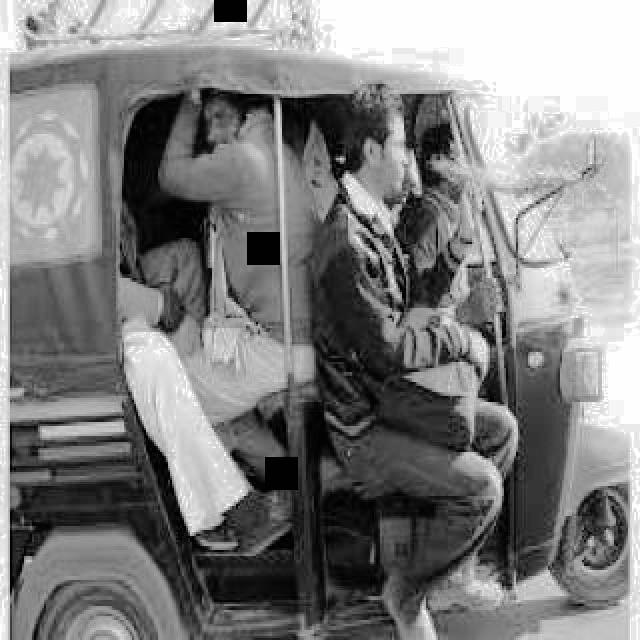Auto-Rickshaw: (10, 30, 640, 640)
